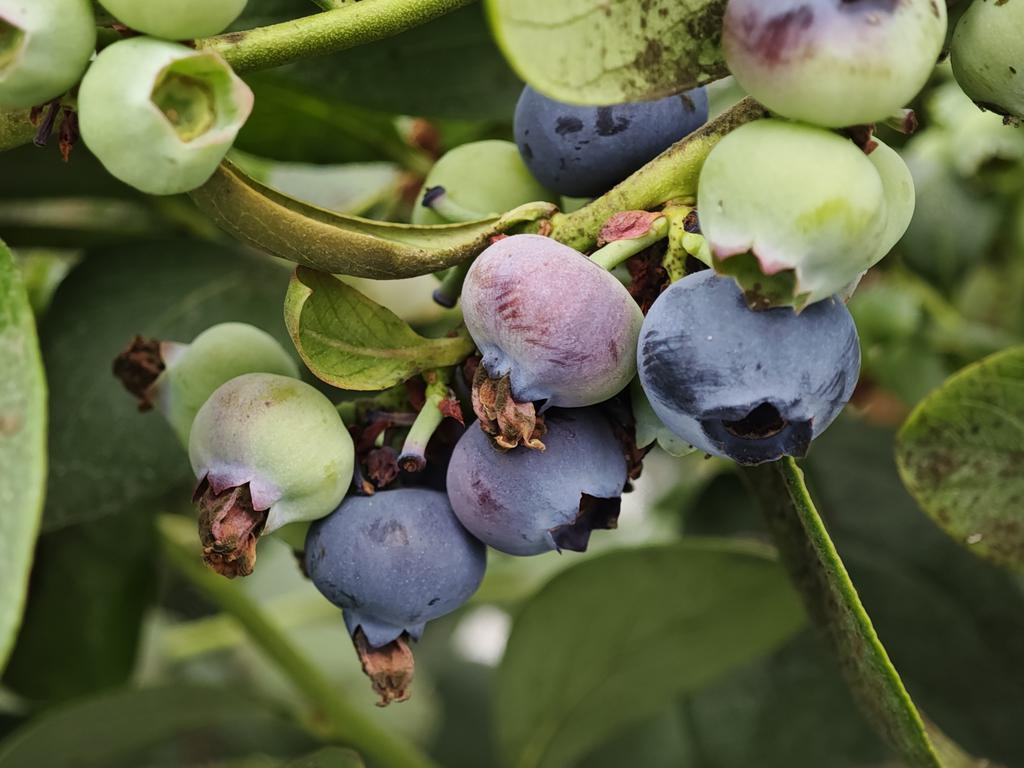RipeBlueBerry: (634, 267, 865, 468), (300, 485, 492, 652)
Semi-RipeBlueBerry: (457, 229, 646, 416)
UnripeBlueBerry: (693, 117, 891, 313), (183, 367, 357, 538)
